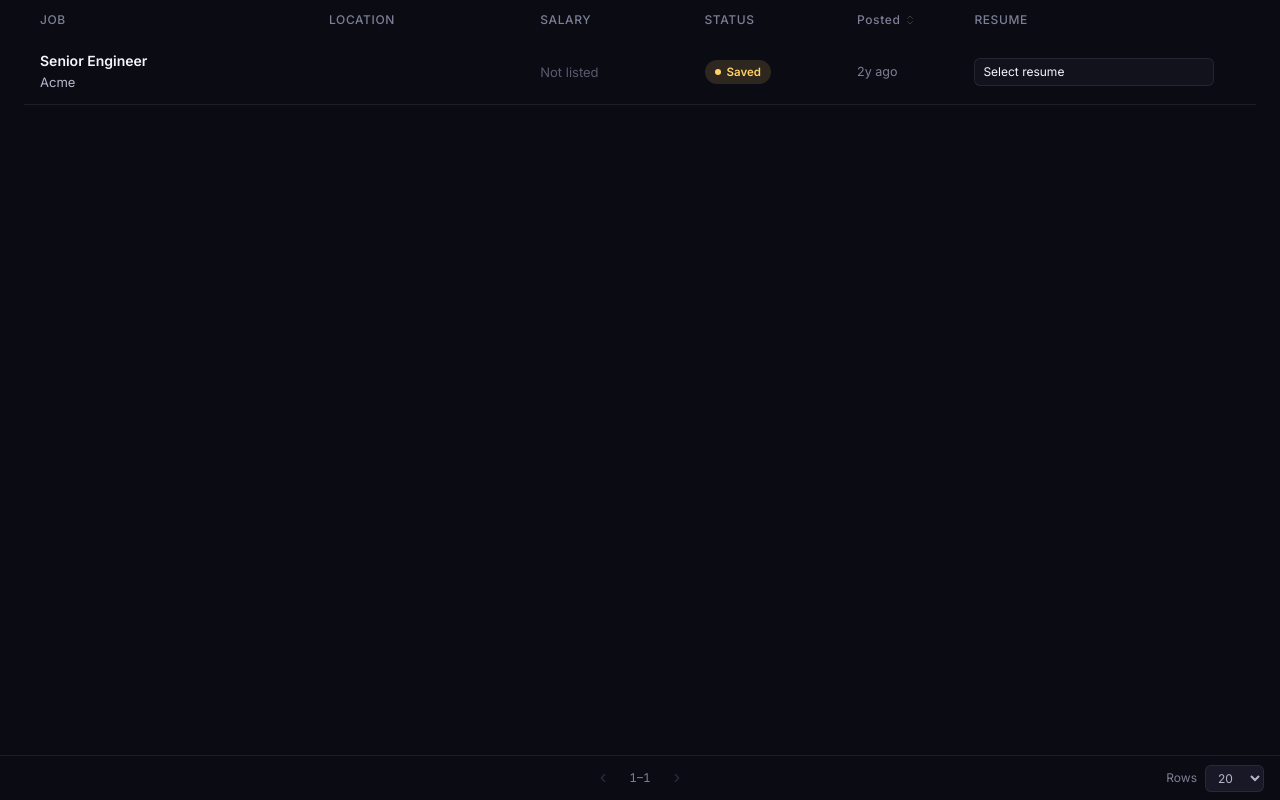
Test case: ApplyQueueTable › resume-picker dialog wiring › opens the dialog for the clicked row and shows that job in the title
Click the button "Select resume" at (1094,72), box [974,58,1214,86]
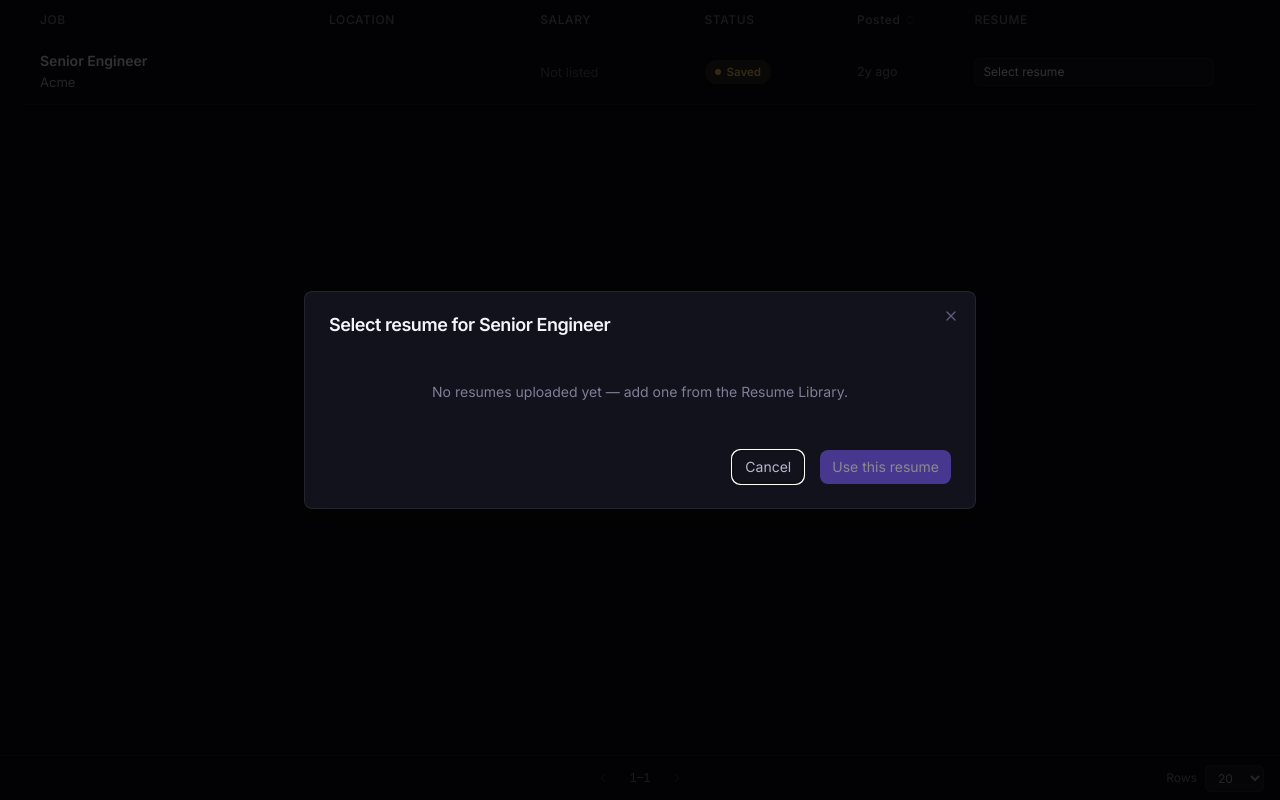
Now the heading "Select resume for Senior Engineer" is shown, box [329,314,610,335]
